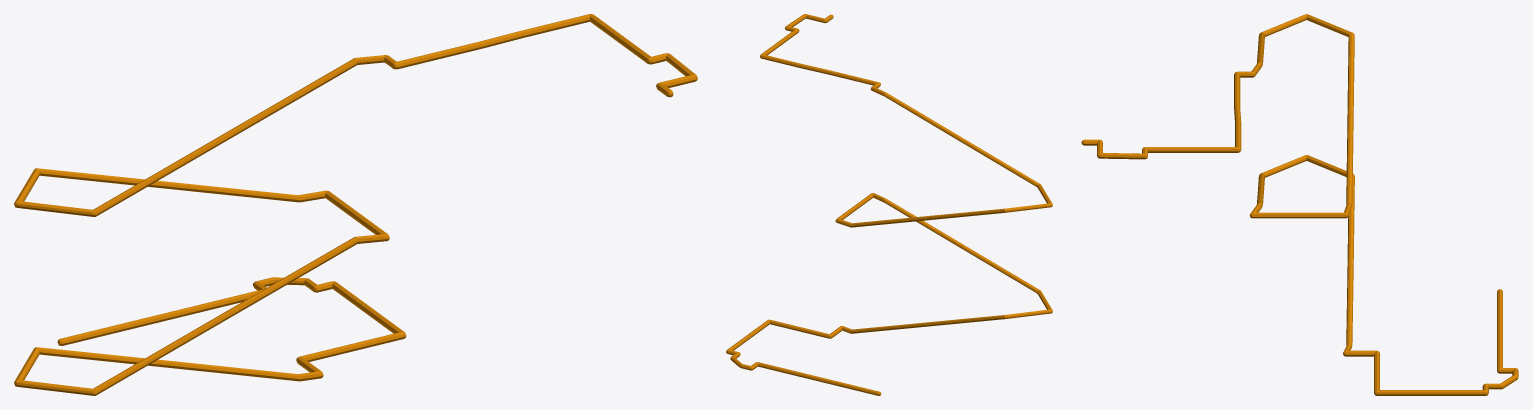
3 renders of one model, left to right at view 1: azimuth 30°, elevation 25°; view 2: azimuth 150°, elevation 25°; view 3: azimuth 270°, elevation 25°, orthographic. The views are drawn at different scales.
Bounding box in the file's own units: 1619 × 1020 × 1407.
